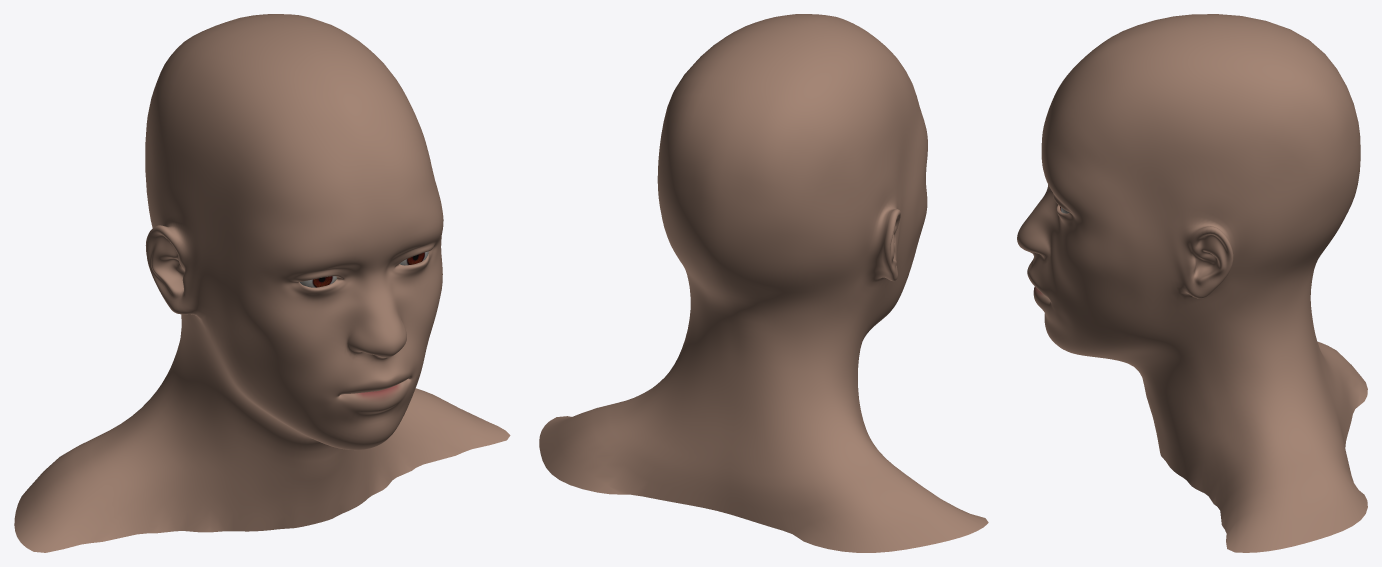
The model's file is face-context.glb.
3 views of the same model, side by side, from view 1: azimuth 30°, elevation 25°; view 2: azimuth 150°, elevation 25°; view 3: azimuth 270°, elevation 25° (orthographic). The views are drawn at different scales.
Parts seen in each view (by area): view 1: HEAD_EXTERNAL; view 2: HEAD_EXTERNAL; view 3: HEAD_EXTERNAL.
Boxes of the visible parts, left/top/right/bottom form: HEAD_EXTERNAL: left=14, top=14, right=510, bottom=552; HEAD_EXTERNAL: left=539, top=14, right=988, bottom=552; HEAD_EXTERNAL: left=1017, top=14, right=1367, bottom=552.
Bounding box in the file's own units: 0.3139 × 0.294 × 0.2219.
2 materials, 1 textured.
